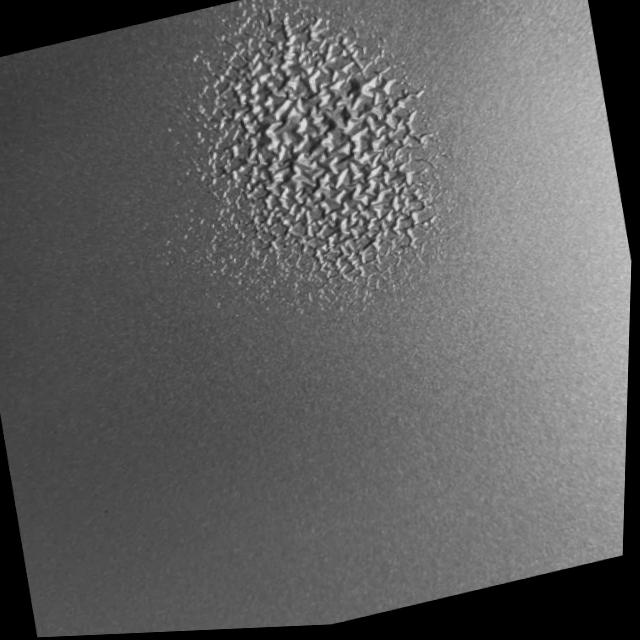Paint-Crack: (164, 0, 433, 303)
